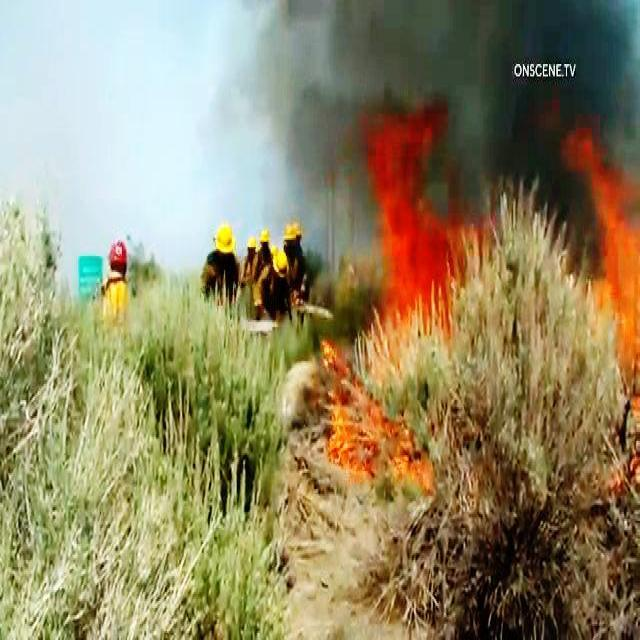Fire: (362, 102, 447, 339), (306, 350, 440, 478), (578, 119, 640, 391)
Smoke: (205, 0, 640, 114), (0, 4, 205, 236), (206, 114, 367, 235), (450, 121, 568, 271)
